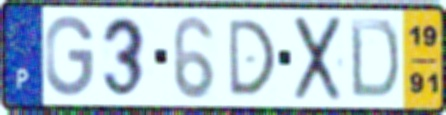3: (99, 13, 154, 101)
6: (171, 13, 219, 102)
D: (348, 16, 402, 102), (225, 17, 278, 99)
G: (43, 13, 97, 99)
X: (292, 13, 345, 104)
